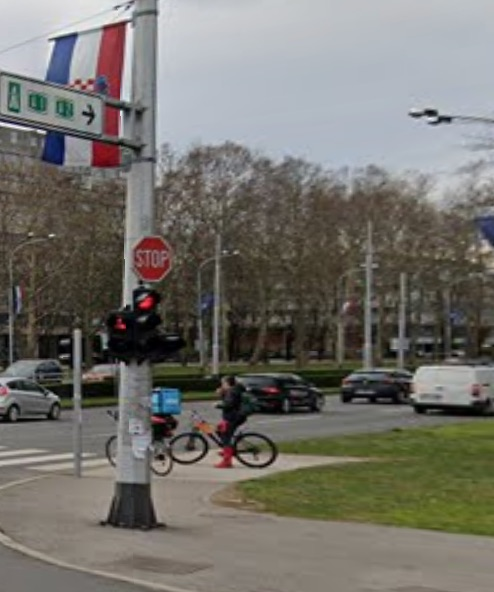Obavezno zaustavljanje: (132, 236, 172, 281)
